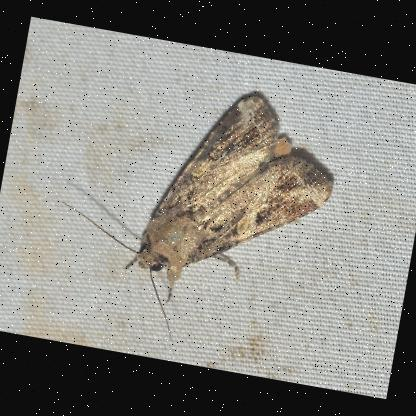Fall Armyworm Moth: (36, 63, 350, 368)
